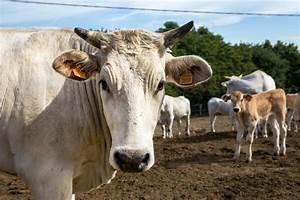cow: (0, 19, 213, 199), (222, 87, 288, 163), (158, 94, 191, 139), (207, 95, 236, 133), (285, 91, 299, 133)
